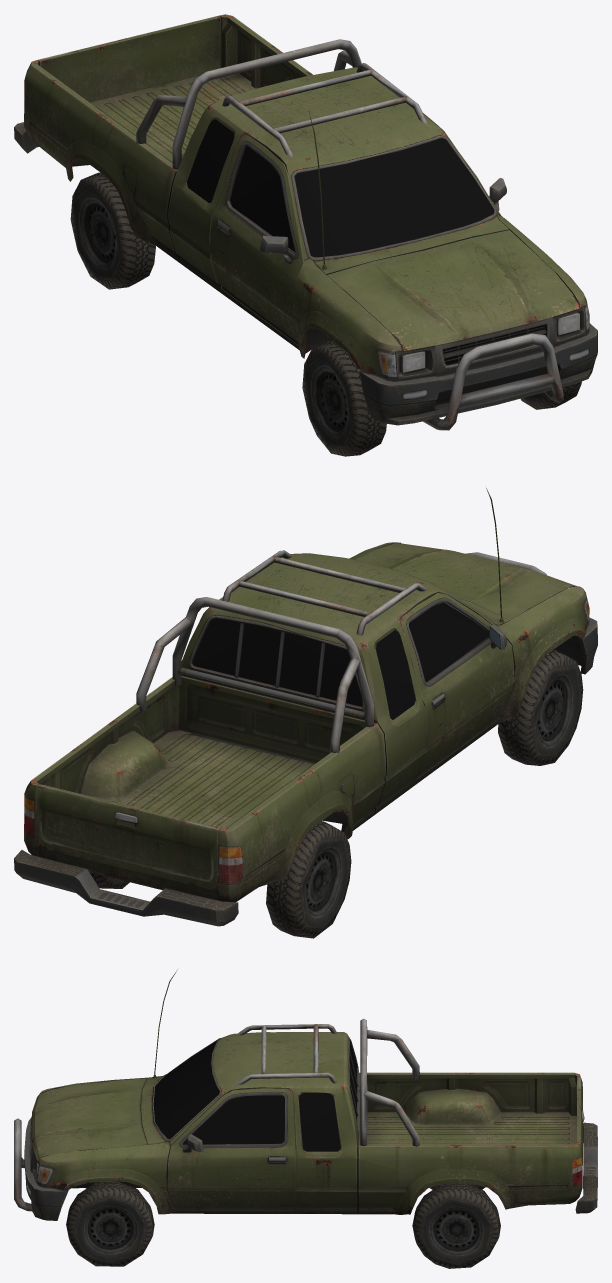
Rendered from pickup.glb.
The picture shows the model from 3 angles, top to bottom: view 1: azimuth 30°, elevation 25°; view 2: azimuth 150°, elevation 25°; view 3: azimuth 270°, elevation 25°; orthographic projection. The views are drawn at different scales.
Visible parts, largest first — view 1: body, wheel1, wheel3, wheel2; view 2: body, wheel1, wheel3; view 3: body, wheel2, wheel0.
Part boxes in pixels (left/top/right/bottom): body: left=14, top=14, right=597, bottom=430; wheel1: left=70, top=172, right=155, bottom=289; wheel3: left=302, top=340, right=386, bottom=456; wheel2: left=520, top=381, right=581, bottom=409; body: left=14, top=488, right=597, bottom=926; wheel1: left=266, top=821, right=351, bottom=938; wheel3: left=498, top=649, right=583, bottom=765; body: left=14, top=969, right=597, bottom=1220; wheel2: left=66, top=1182, right=154, bottom=1266; wheel0: left=412, top=1184, right=500, bottom=1268.
Size of the model in its own units: 1.92 by 2.31 by 5.3.
2 materials, 1 textured.
